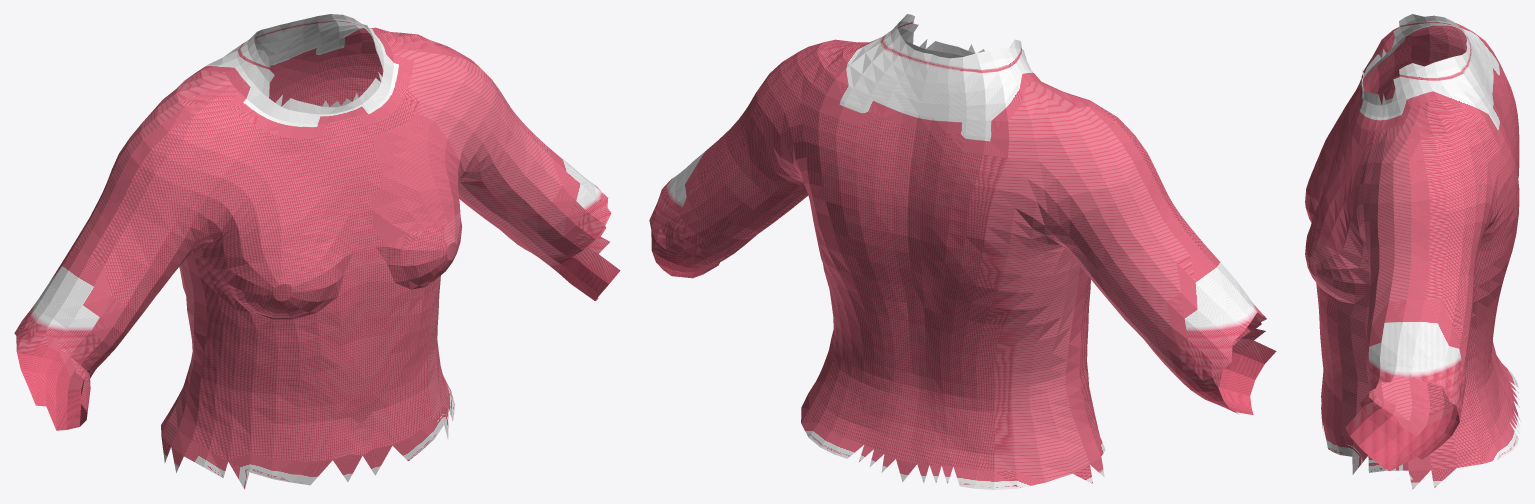
File: TSH-WW-CREW-001_S.glb
3 renders of one model, left to right at view 1: azimuth 30°, elevation 25°; view 2: azimuth 150°, elevation 25°; view 3: azimuth 270°, elevation 25°, orthographic. The views are drawn at different scales.
Visible parts, largest first — view 1: geometry_0; view 2: geometry_0; view 3: geometry_0.
Boxes of the visible parts, <box> form: geometry_0: <box>14,14,620,489</box>; geometry_0: <box>649,14,1276,489</box>; geometry_0: <box>1305,14,1520,489</box>.
Bounding box in the file's own units: 0.6722 × 0.4652 × 0.2322.
1 material, 1 textured.
